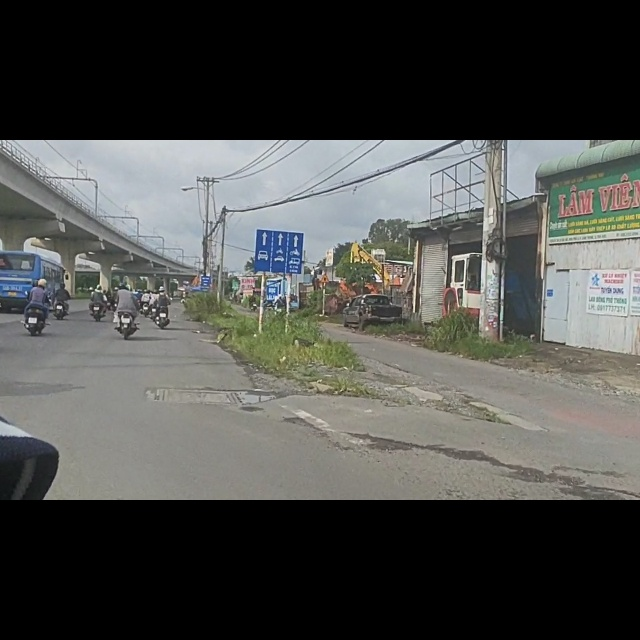bien_nguy_hiem: (253, 152, 306, 239), (319, 237, 331, 255)
